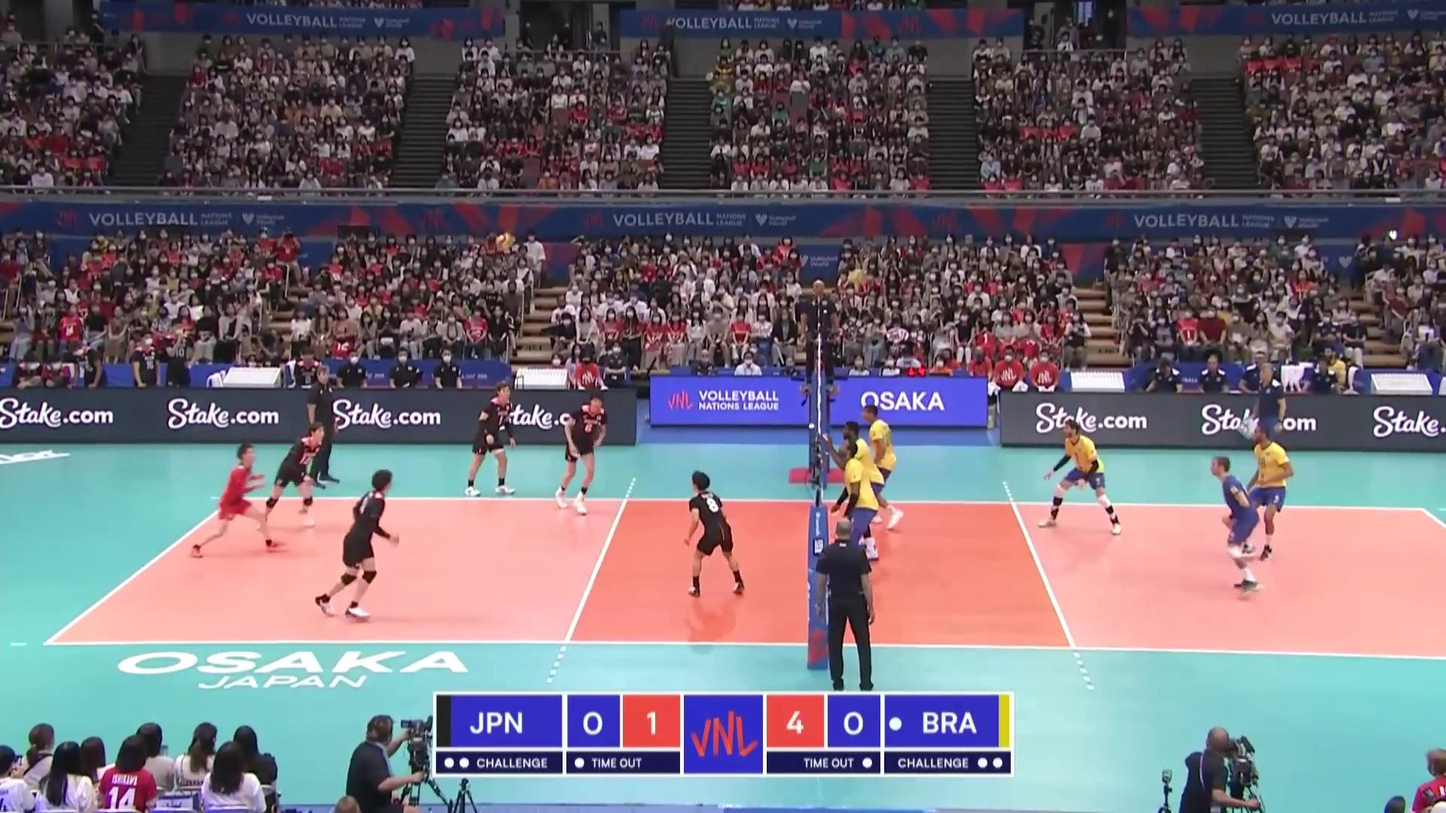player: (314, 469, 396, 620), (189, 441, 290, 560), (1041, 420, 1125, 534), (681, 471, 749, 598), (1207, 454, 1262, 597), (259, 423, 325, 532), (1244, 425, 1296, 562), (555, 393, 610, 516), (837, 420, 885, 559), (833, 440, 879, 582), (464, 384, 515, 498), (861, 405, 906, 533)
refree: (814, 520, 875, 690), (800, 280, 838, 394)
